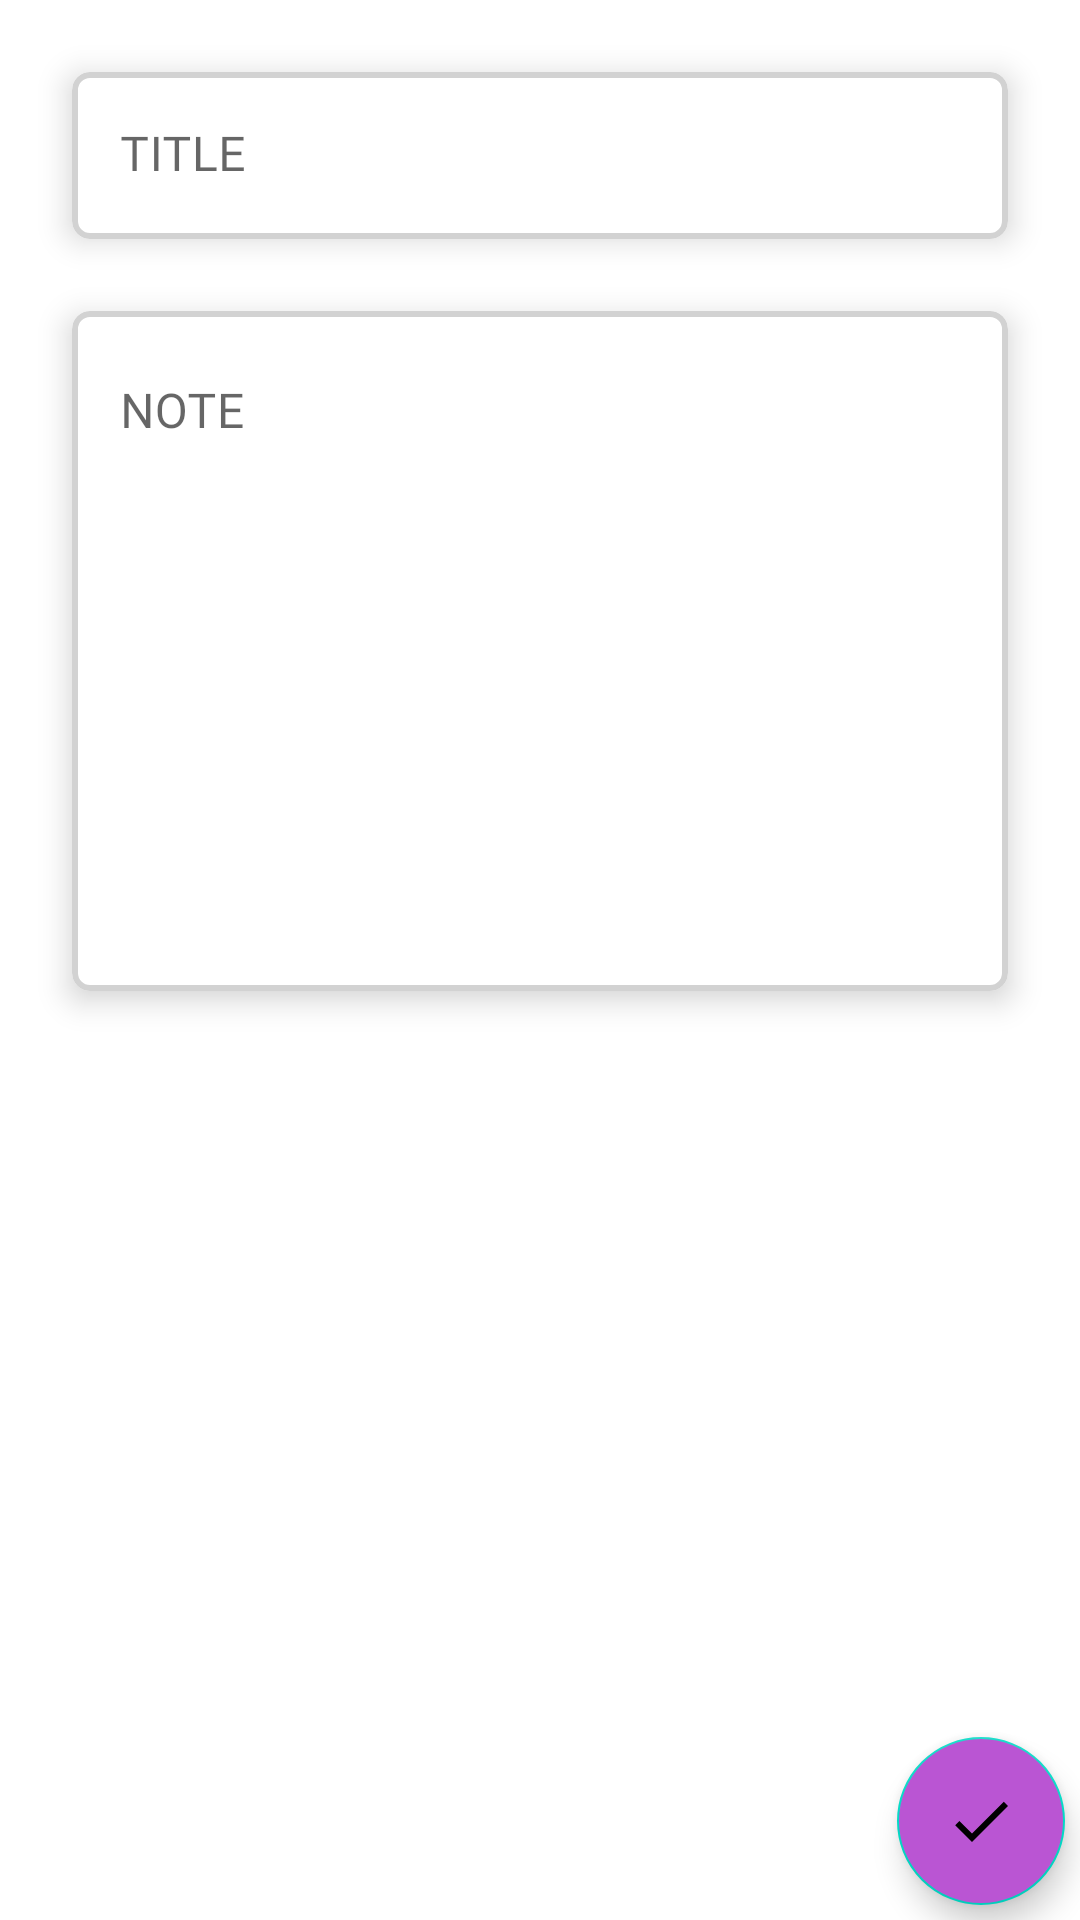

Screen size 1080 x 1920. Icon name, then its box in pixels as (x1, y1, x2, y2):
Save Item: (897, 1737, 1065, 1905)
